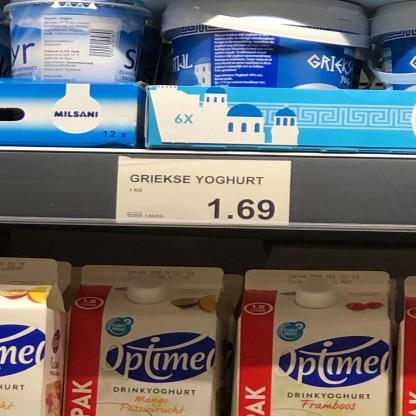prtg: (117, 159, 292, 227)
